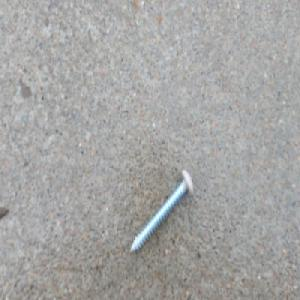Nail: (129, 167, 194, 254)
